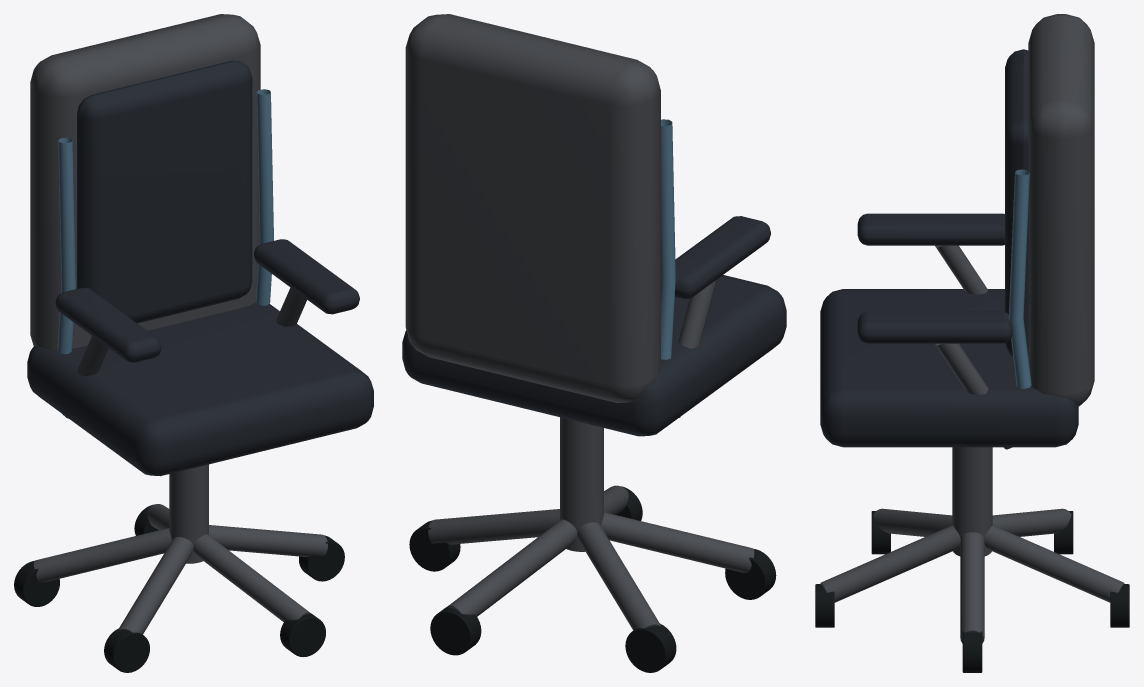
File: estacoes_cadeira.glb
3 renders of one model, left to right at view 1: azimuth 30°, elevation 25°; view 2: azimuth 150°, elevation 25°; view 3: azimuth 270°, elevation 25°, orthographic. The views are drawn at different scales.
Visible parts, largest first — view 1: cadeira; view 2: cadeira; view 3: cadeira.
Boxes of the visible parts, x1,y1,x2,y2 form: cadeira: (14,14,373,672); cadeira: (402,14,786,672); cadeira: (815,14,1129,672).
Bounding box in the file's own units: 0.5644 × 1.05 × 0.5476.
